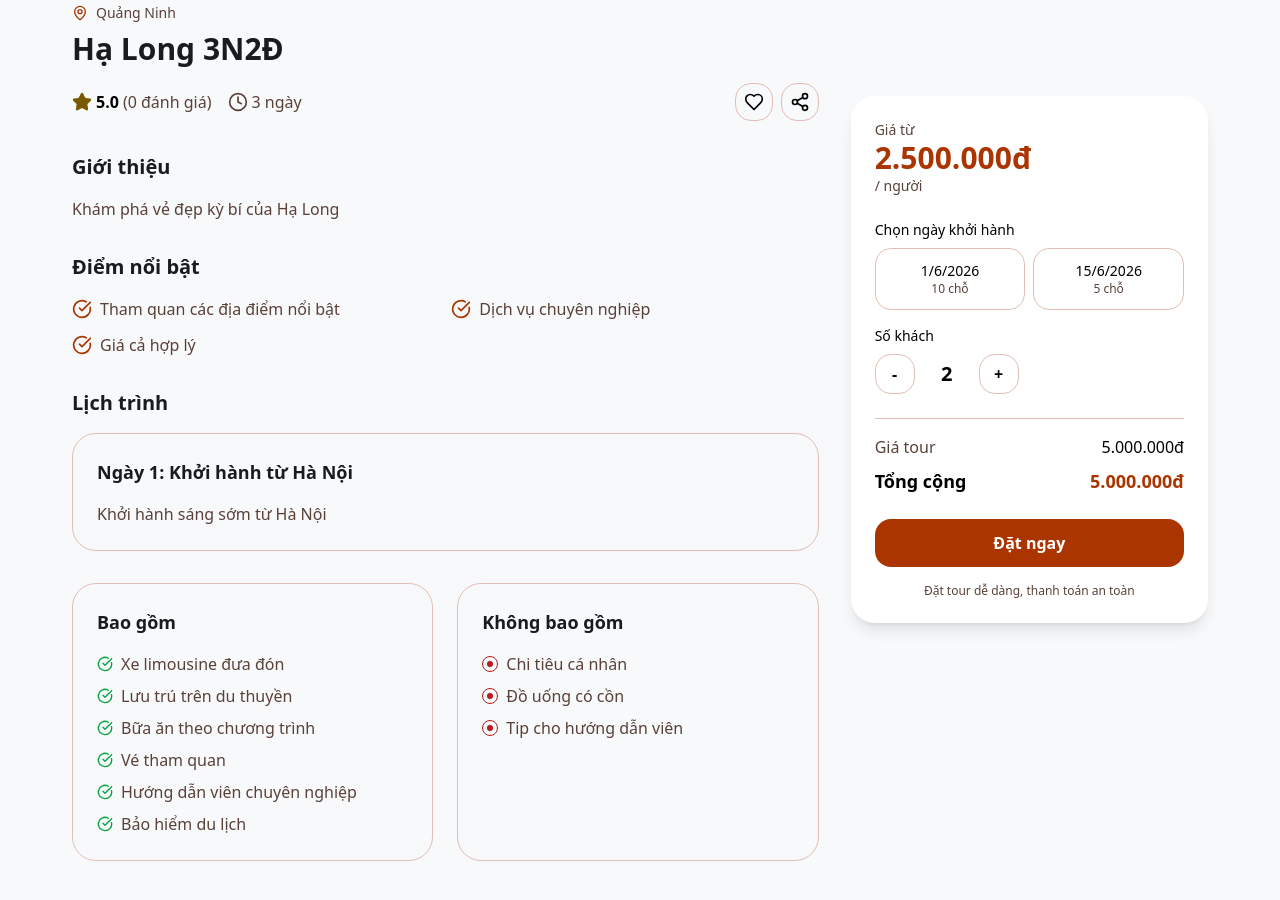
Test: TourDetailPage › enables 'Đặt ngay' button only when departure is selected
The width and height of the screenshot is (1280, 900).
(page scrolled)
Expected: the heading "Hạ Long 3N2Đ" is shown, 72,28 -> 284,69
Click the button "Đặt ngay".
click(1029, 543)  # box 875,519 -> 1184,567
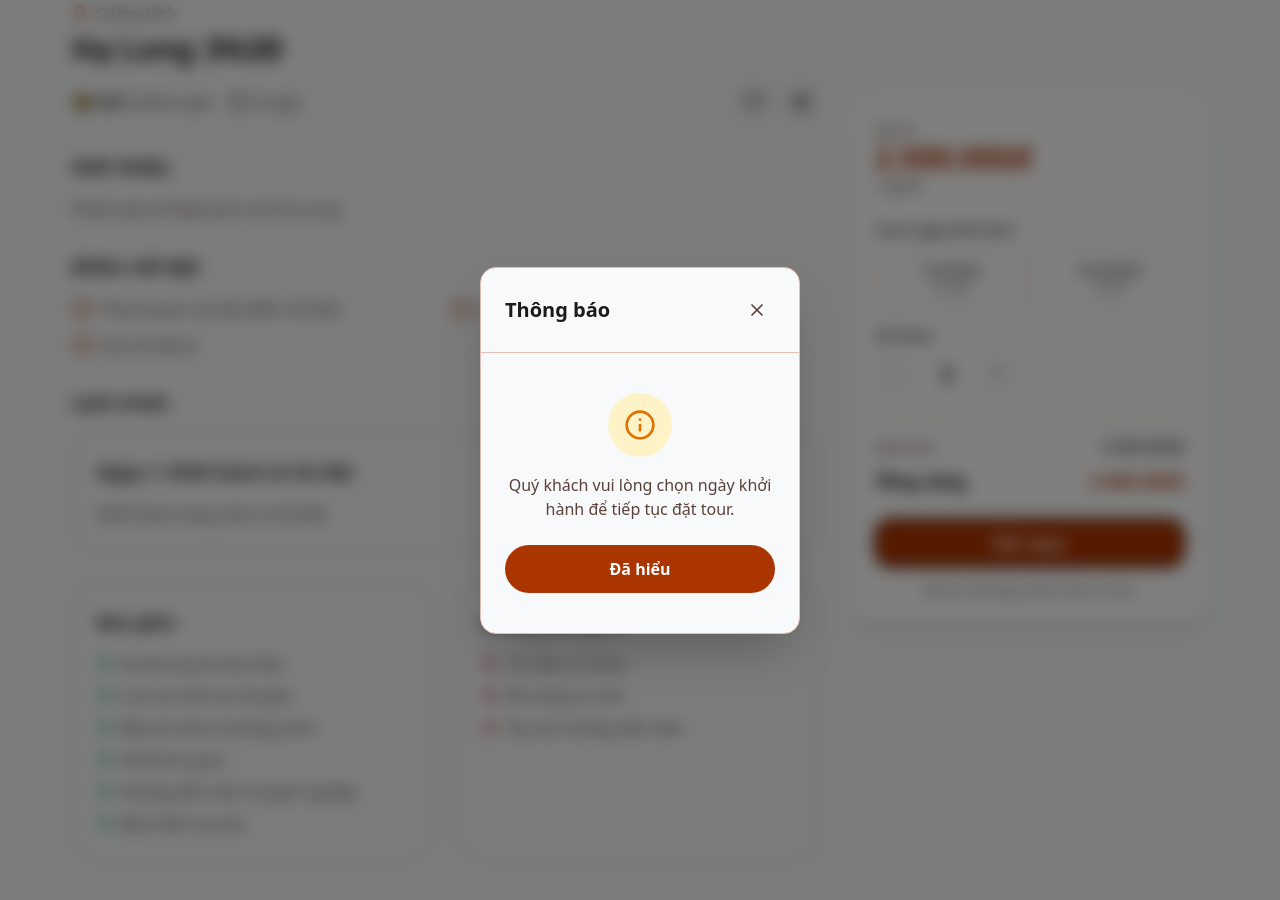
Now the text "Quý khách vui lòng chọn ngày khởi hành để tiếp tục đặt tour." is shown, box 505,472 -> 775,520
Click the button "Đã hiểu".
click(640, 568)  # box 505,544 -> 775,592
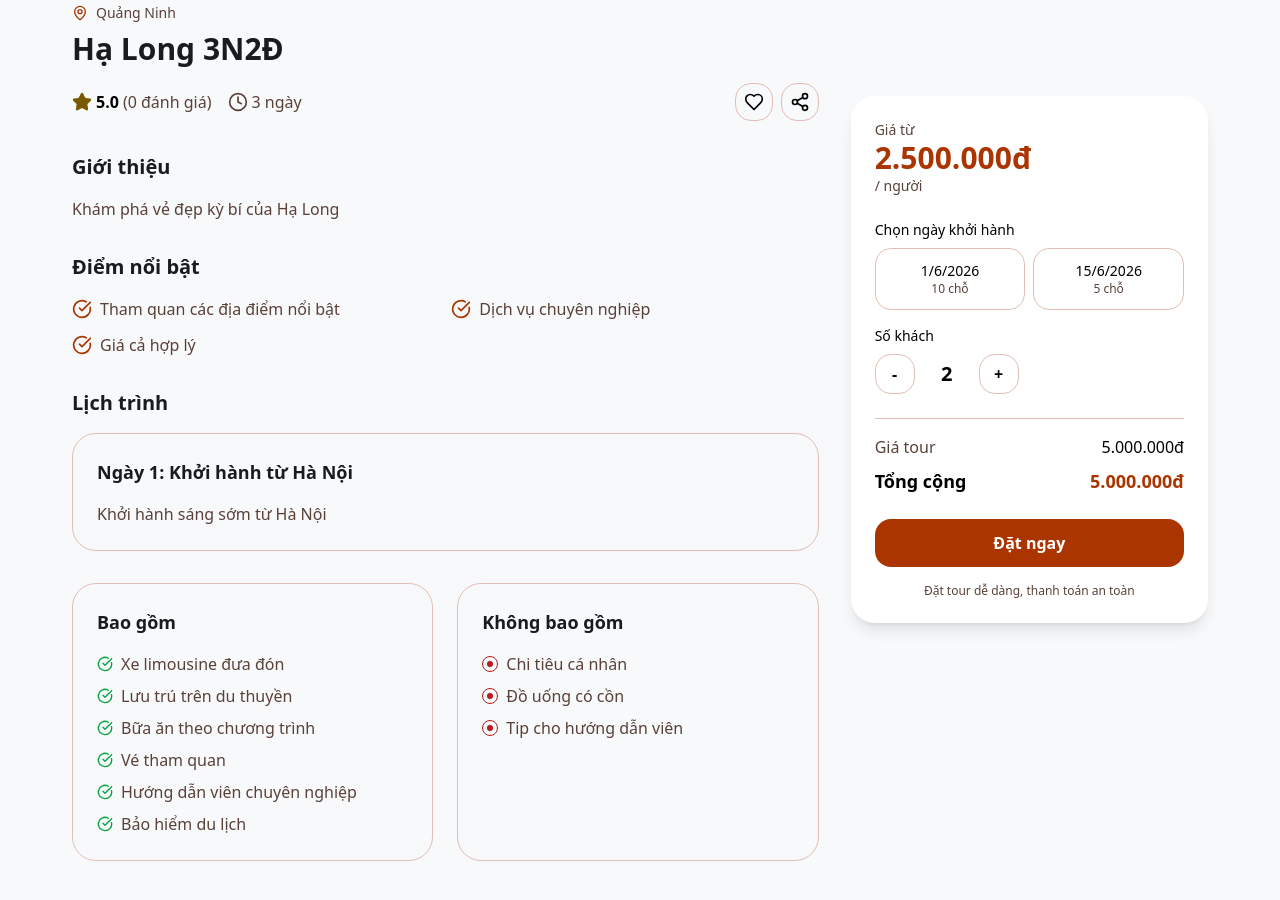
Now the text "vui lòng chọn ngày khởi hành" is gone
